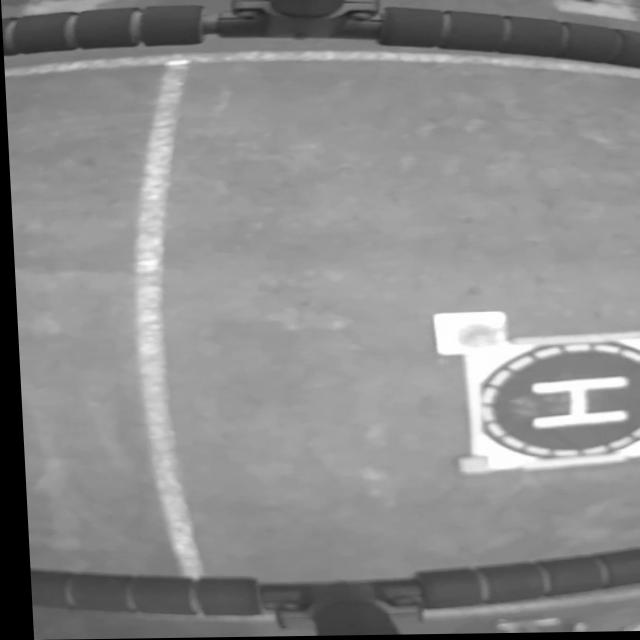Helipad: (523, 378, 624, 431)
